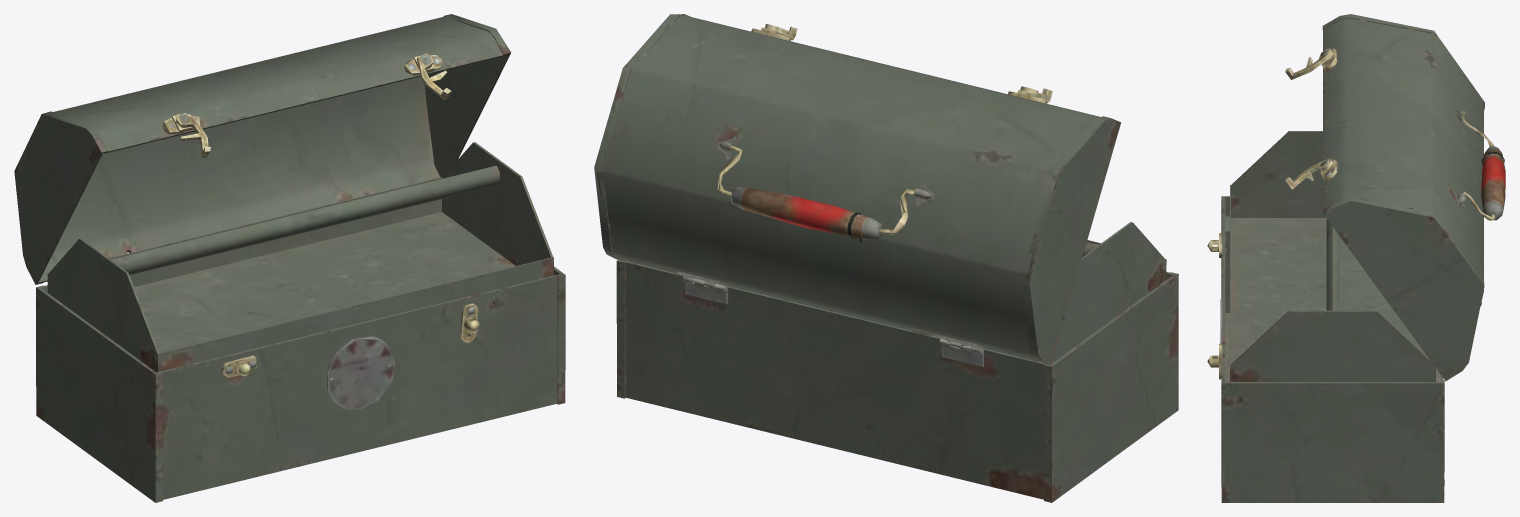
Rendered from ph_metal_toolbox.glb.
3 renders of one model, left to right at view 1: azimuth 30°, elevation 25°; view 2: azimuth 150°, elevation 25°; view 3: azimuth 270°, elevation 25°, orthographic. The views are drawn at different scales.
Parts seen in each view (by area): view 1: metal_toolbox; view 2: metal_toolbox; view 3: metal_toolbox.
Boxes of the visible parts, x1=… form: metal_toolbox: x1=14, y1=14, x2=565, y2=502; metal_toolbox: x1=594, y1=14, x2=1178, y2=502; metal_toolbox: x1=1207, y1=14, x2=1505, y2=502.
Size of the model in its own units: 0.4 by 0.3044 by 0.2702.
Materials: 1 (1 with a texture image).
